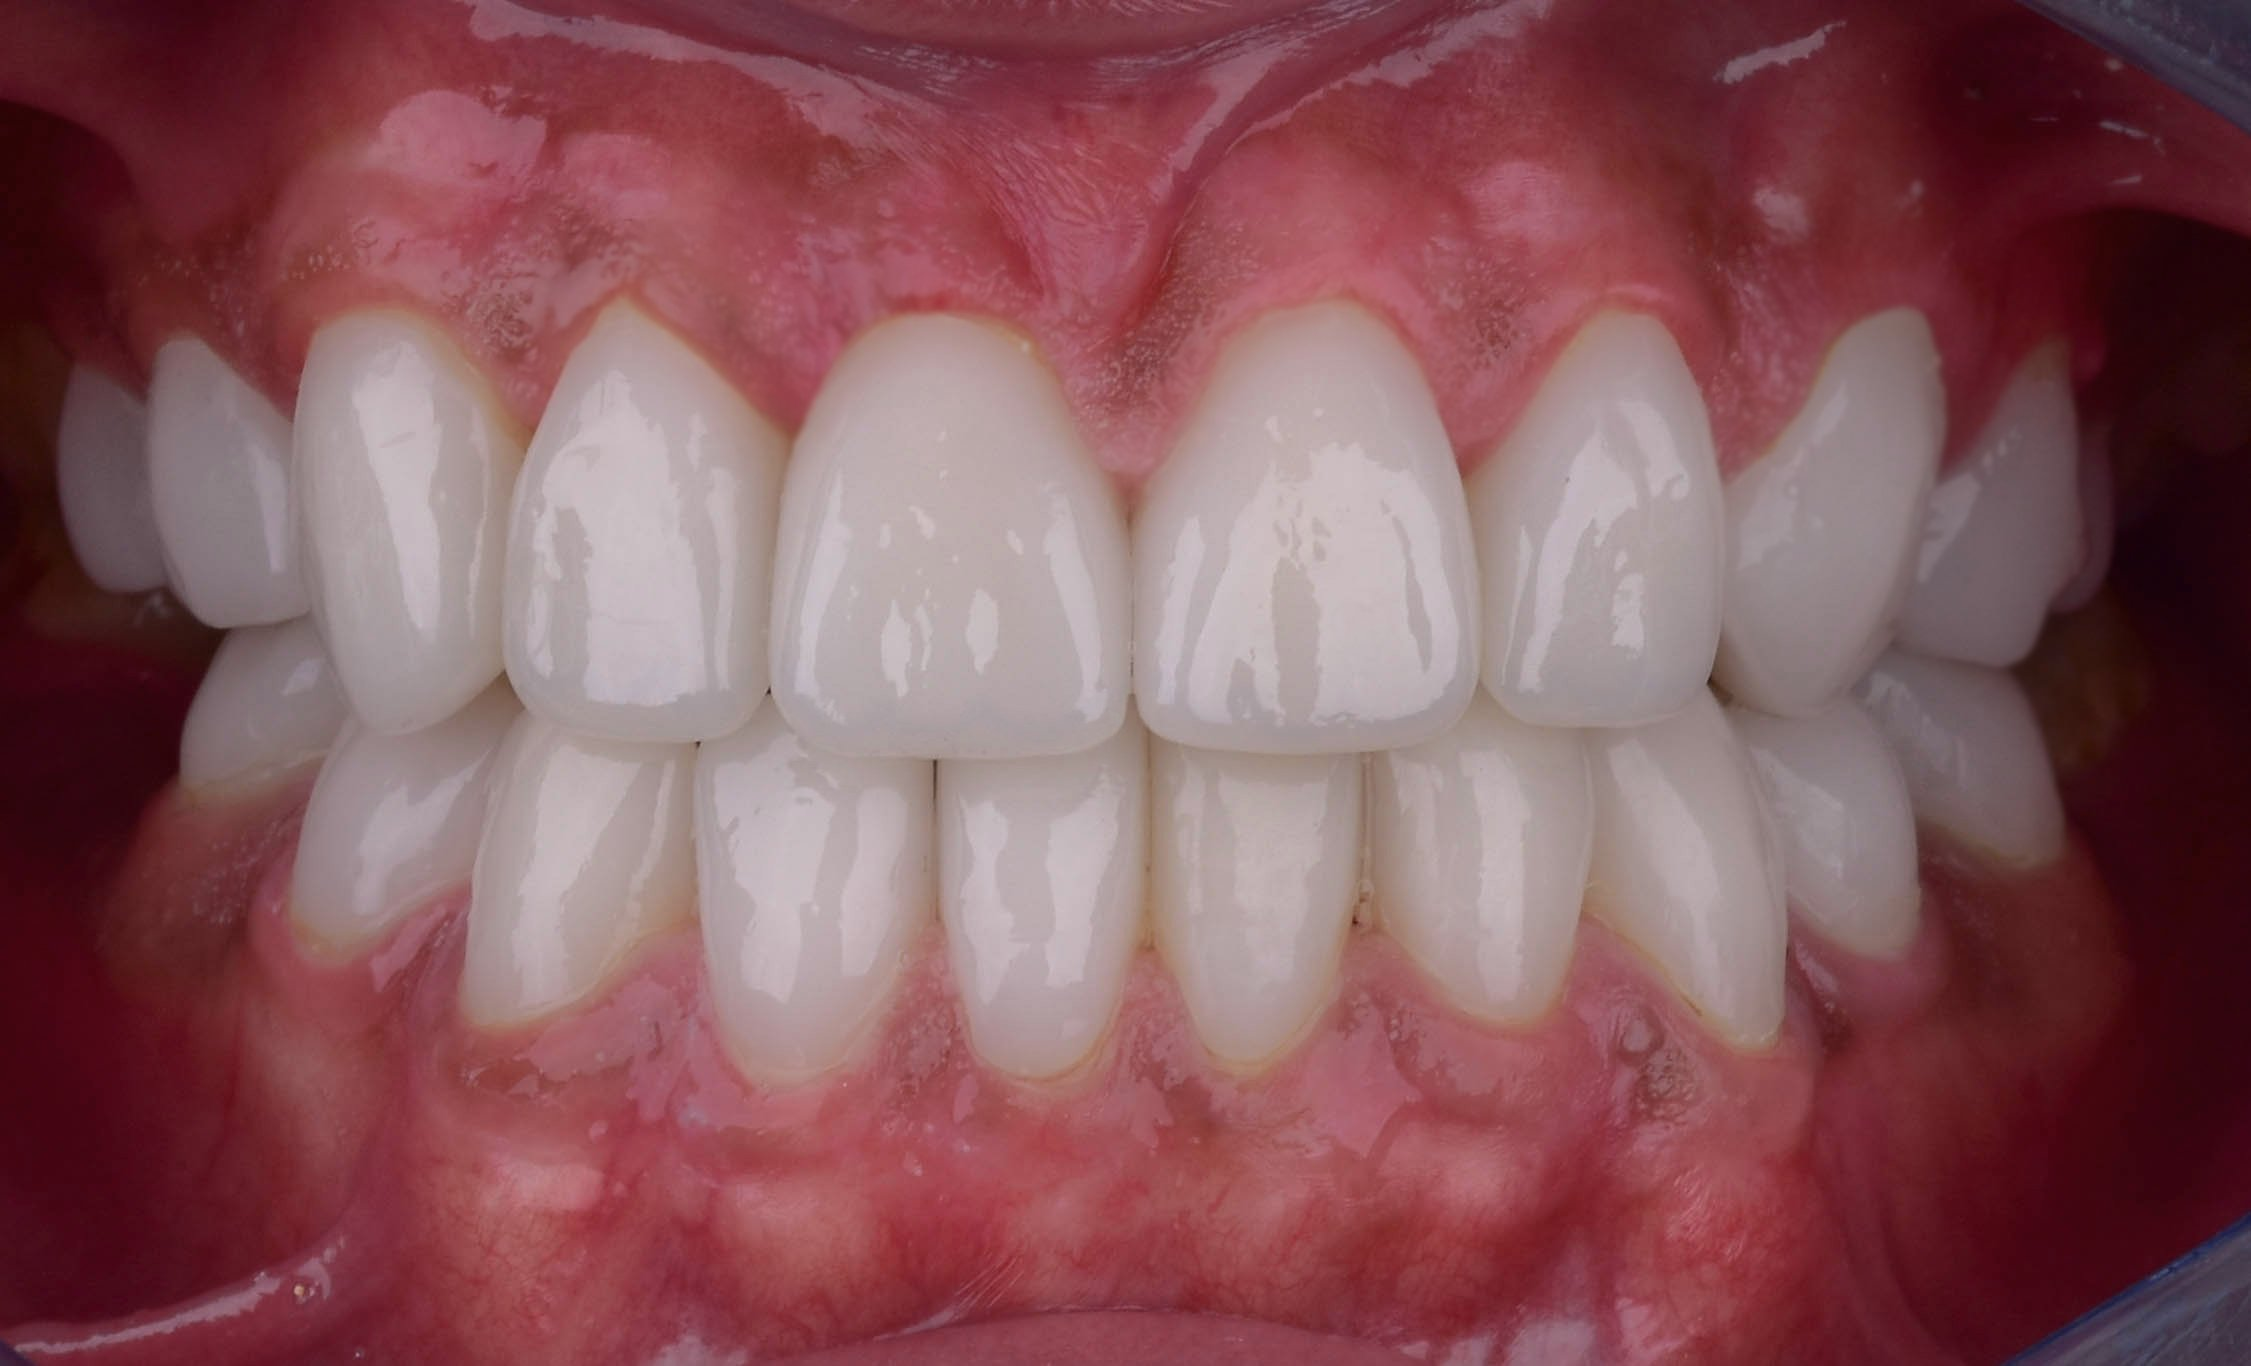LL1BC_healthy: (1765, 717, 1926, 967)
LL2BC_healthy: (1920, 657, 2073, 889)
LLCI_healthy: (1162, 741, 1368, 1086)
LLC_healthy: (1595, 718, 1809, 1057)
LLLI_healthy: (1365, 725, 1601, 1043)
LR1BC_healthy: (294, 731, 473, 985)
LR2BC_healthy: (158, 641, 325, 816)
LRCI_healthy: (920, 741, 1161, 1085)
LRC_healthy: (461, 738, 679, 1054)
LRLI_healthy: (687, 726, 926, 1099)
UL1BC_healthy: (1929, 363, 2092, 677)
ULCI_healthy: (1142, 312, 1487, 754)
ULC_healthy: (1733, 304, 1941, 718)
ULLI_healthy: (1468, 297, 1733, 736)
UR1BC_healthy: (138, 336, 307, 627)
UR2BC_healthy: (51, 360, 158, 620)
URCI_healthy: (780, 317, 1129, 754)
URC_healthy: (301, 289, 511, 725)
URLI_healthy: (511, 317, 797, 759)
